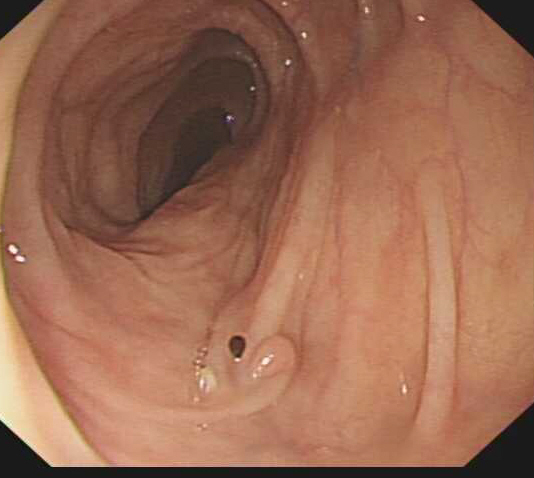adenoma: (250, 331, 300, 389)
